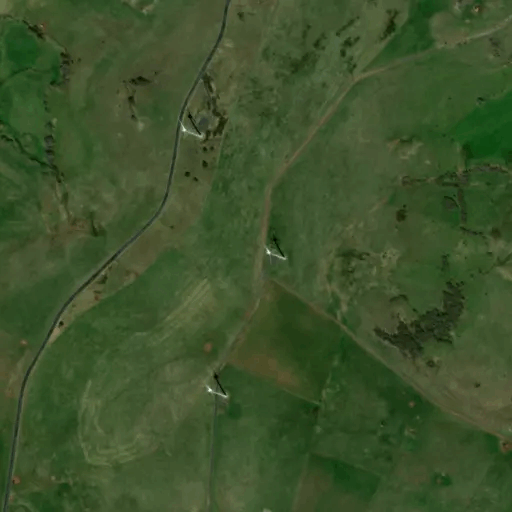wt: (254, 229, 292, 266), (172, 107, 210, 143), (197, 368, 233, 404)
